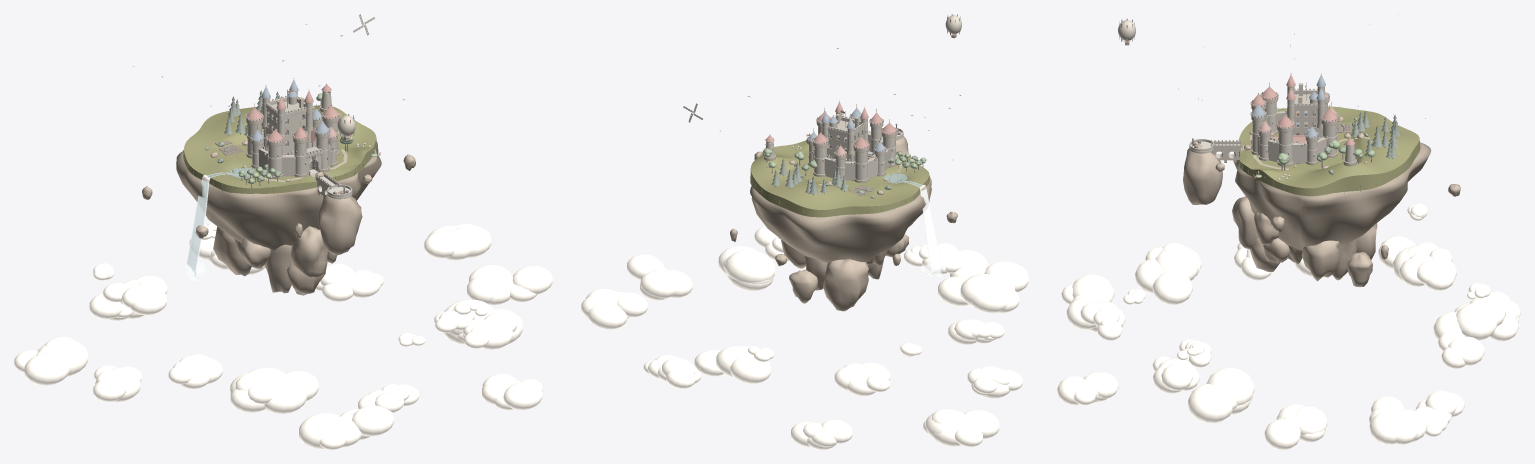
The picture shows the model from 3 angles, left to right: view 1: azimuth 30°, elevation 25°; view 2: azimuth 150°, elevation 25°; view 3: azimuth 270°, elevation 25°; orthographic projection. The views are drawn at different scales.
Parts seen in each view (by area): view 1: IslandRock, Terrain, Cloud10, Cloud11, Cloud0, Cloud7, DockRock, Cloud1, Cloud6, Cloud2, Cloud13, Cloud14 (+14 smaller); view 2: Terrain, IslandRock, Cloud10, Cloud7, Cloud1, Cloud0, Cloud15, FloatRock1, Cloud6, Cloud4, Cloud11, Cloud5 (+8 smaller); view 3: IslandRock, Terrain, Cloud10, Cloud15, Cloud4, Cloud1, Cloud0, Cloud6, DockRock, Cloud11, Cloud13, Cloud2 (+16 smaller).
Boxes of the visible parts, x1=… form: IslandRock: x1=176, y1=142, x2=381, y2=251; Terrain: x1=183, y1=105, x2=376, y2=193; Cloud10: x1=230, y1=367, x2=318, y2=413; Cloud11: x1=299, y1=405, x2=393, y2=449; Cloud0: x1=467, y1=265, x2=552, y2=305; Cloud7: x1=14, y1=337, x2=87, y2=385; DockRock: x1=318, y1=190, x2=362, y2=255; Cloud1: x1=424, y1=224, x2=491, y2=260; Cloud6: x1=103, y1=275, x2=167, y2=315; Cloud2: x1=315, y1=264, x2=383, y2=301; Cloud13: x1=482, y1=374, x2=542, y2=410; Cloud14: x1=463, y1=312, x2=516, y2=349; Terrain: x1=750, y1=140, x2=929, y2=217; IslandRock: x1=750, y1=176, x2=931, y2=263; Cloud10: x1=938, y1=274, x2=1019, y2=312; Cloud7: x1=923, y1=409, x2=999, y2=446; Cloud1: x1=581, y1=289, x2=647, y2=329; Cloud0: x1=627, y1=254, x2=692, y2=300; Cloud15: x1=718, y1=246, x2=774, y2=290; FloatRock1: x1=823, y1=259, x2=868, y2=311; Cloud6: x1=834, y1=362, x2=890, y2=396; Cloud4: x1=716, y1=346, x2=770, y2=383; Cloud11: x1=950, y1=250, x2=1028, y2=292; Cloud5: x1=791, y1=419, x2=852, y2=449; IslandRock: x1=1233, y1=142, x2=1431, y2=250; Terrain: x1=1238, y1=106, x2=1420, y2=196; Cloud10: x1=1135, y1=242, x2=1201, y2=304; Cloud15: x1=1188, y1=368, x2=1254, y2=423; Cloud4: x1=1433, y1=295, x2=1505, y2=340; Cloud1: x1=1369, y1=396, x2=1427, y2=444; Cloud0: x1=1264, y1=404, x2=1327, y2=449; Cloud6: x1=1399, y1=248, x2=1456, y2=290; DockRock: x1=1183, y1=144, x2=1222, y2=204; Cloud11: x1=1061, y1=274, x2=1114, y2=332; Cloud13: x1=1057, y1=372, x2=1118, y2=405; Cloud2: x1=1414, y1=390, x2=1464, y2=436.
Size of the model in its own units: 183 by 124 by 158.
